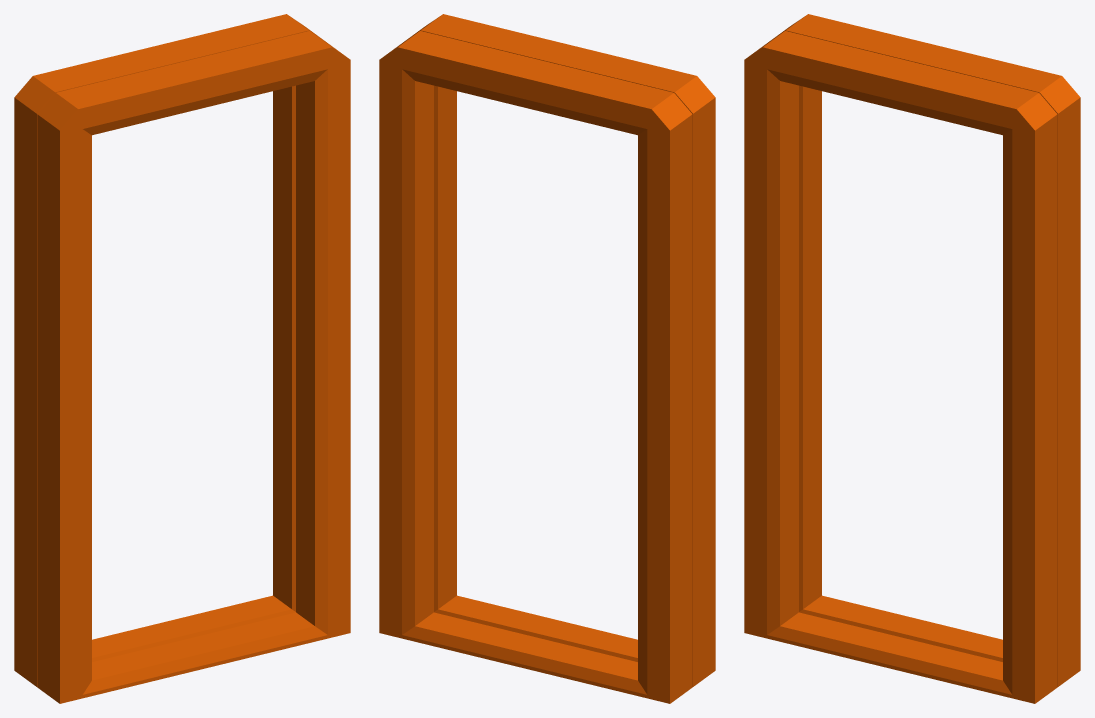
The model's file is door_room_a.fbx.
3 views of the same model, side by side, from view 1: azimuth 30°, elevation 25°; view 2: azimuth 150°, elevation 25°; view 3: azimuth 330°, elevation 25° (orthographic).
Parts seen in each view (by area): view 1: door_room_a; view 2: door_room_a; view 3: door_room_a.
Boxes of the visible parts, box(x1,y1,x2,y2) form: door_room_a: box(14, 14, 350, 703); door_room_a: box(379, 14, 715, 703); door_room_a: box(744, 14, 1080, 703).
Bounding box in the file's own units: 184 × 357 × 49.87.
